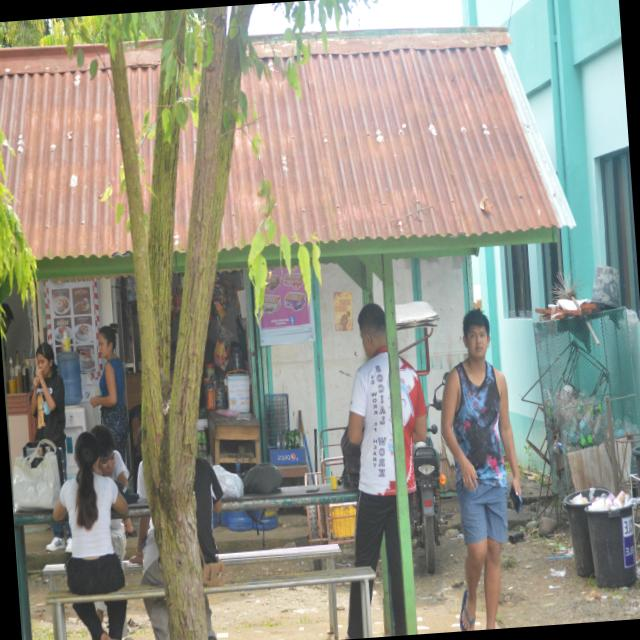person: (441, 309, 520, 630), (347, 304, 405, 635), (53, 433, 126, 595), (90, 324, 128, 457), (30, 343, 65, 452), (193, 458, 221, 563)
